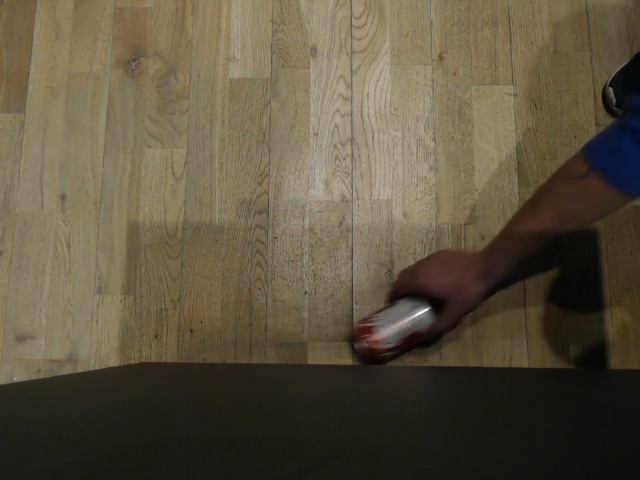cola: (349, 295, 439, 363)
